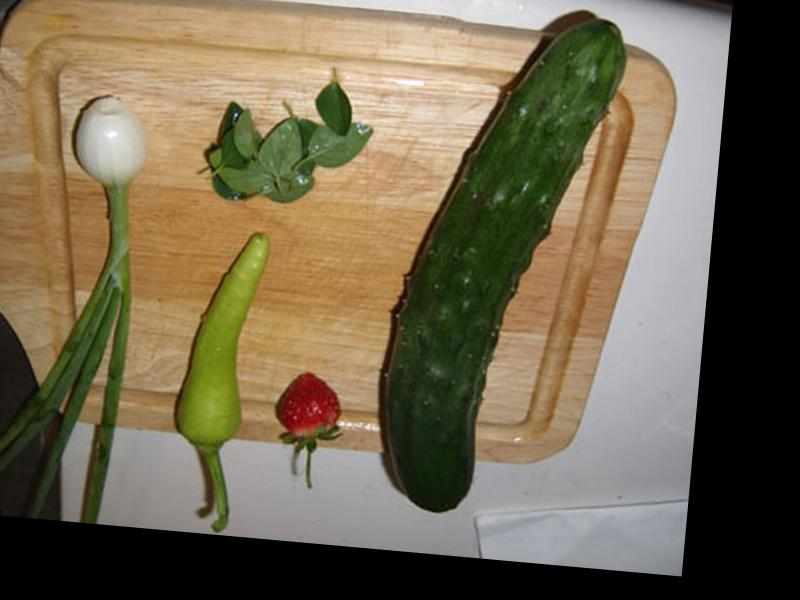Cucumber: (373, 3, 629, 523)
